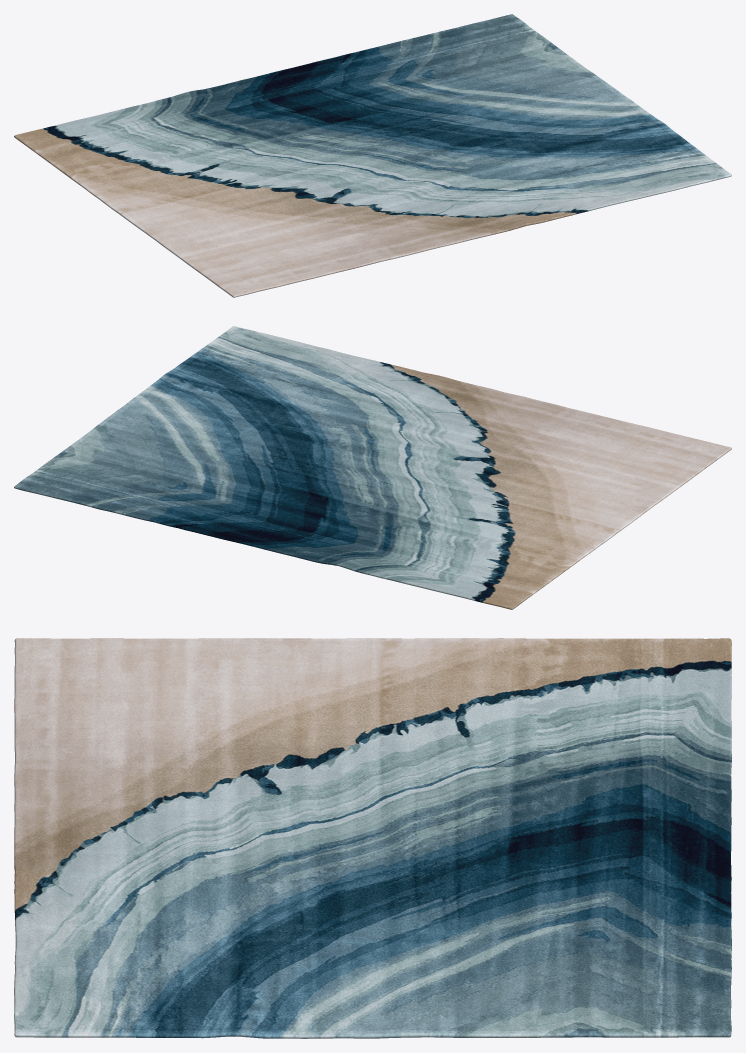
File: malachite.gltf
3 views of the same model, one above another, from view 1: azimuth 30°, elevation 25°; view 2: azimuth 150°, elevation 25°; view 3: azimuth 270°, elevation 25° (orthographic). The views are drawn at different scales.
Parts seen in each view (by area): view 1: malachite; view 2: malachite; view 3: malachite.
Boxes of the visible parts, x1,y1,x2,y2 form: malachite: (14, 14, 731, 297); malachite: (14, 326, 731, 609); malachite: (14, 638, 731, 1038).
Bounding box in the file's own units: 3.3 × 0.0246 × 2.52.
Materials: 1 (1 with a texture image).
